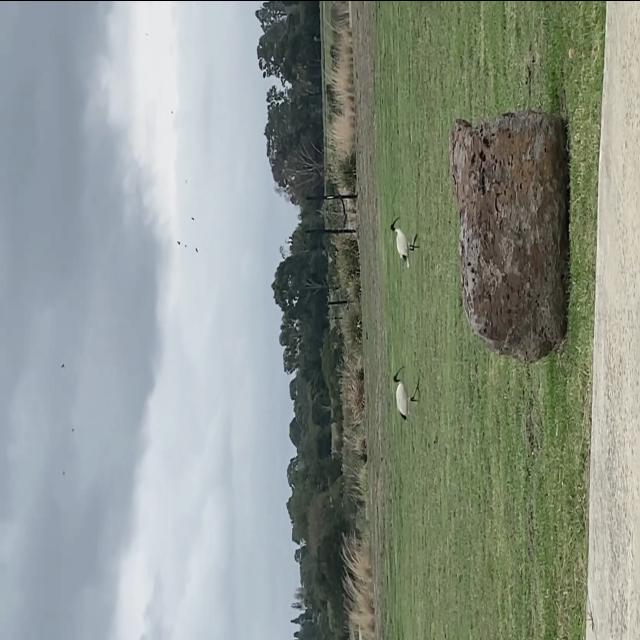Birds-Ibis: (386, 212, 423, 270), (389, 363, 424, 422)
